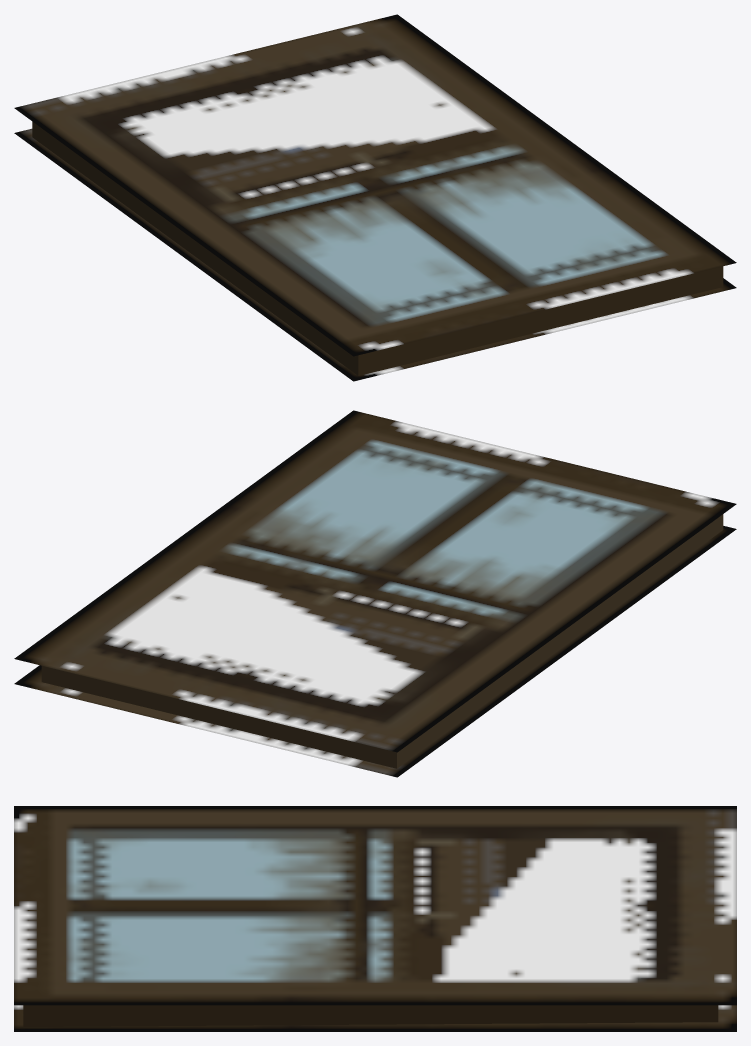
Rendered from pz_native_fixtures_windows_01_3_frame.obj.
The picture shows the model from 3 angles, top to bottom: view 1: azimuth 30°, elevation 25°; view 2: azimuth 150°, elevation 25°; view 3: azimuth 270°, elevation 25°; orthographic projection. The views are drawn at different scales.
Parts seen in each view (by area): view 1: pz_native_fixtures_windows_01_3_frame; view 2: pz_native_fixtures_windows_01_3_frame; view 3: pz_native_fixtures_windows_01_3_frame.
Boxes of the visible parts, left/top/right/bottom form: pz_native_fixtures_windows_01_3_frame: left=14, top=14, right=736, bottom=381; pz_native_fixtures_windows_01_3_frame: left=14, top=410, right=736, bottom=777; pz_native_fixtures_windows_01_3_frame: left=14, top=806, right=736, bottom=1031.
Size of the model in its own units: 0.6406 by 0.04 by 0.9823.
1 material, 1 textured.
